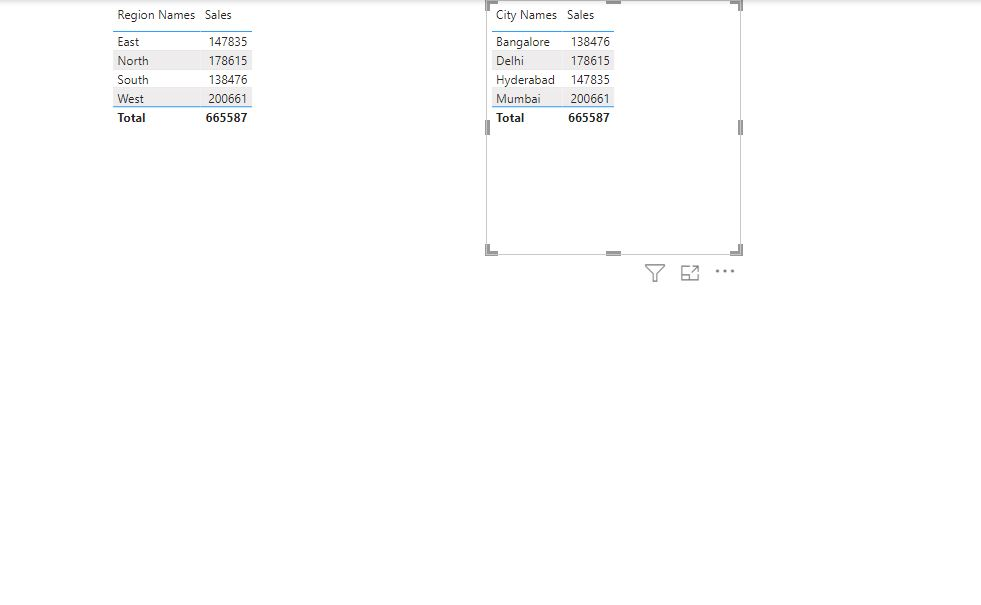

The page's visual inventory and layout, read from the dashboard file:
{"tool":"powerbi","page":{"name":"Page 1","canvas":[1280,720],"ordinal":0},"visuals":[{"type":"tableEx","fields":{"Values":["CityTable.Region Names","Sum(Sales_Table.Sales)"]},"box":[193.6,0,280.2,280.2],"z":0},{"type":"tableEx","fields":{"Values":["CityTable.City Names","Sum(Sales_Table.Sales)"]},"box":[609.8,0,280.2,280.2],"z":1}]}

Visuals, with their boxes on the page's 1280x720 design canvas (x1, y1, x2, y2). These are canvas units, not pixel positions in the 981x605 screenshot, which may show the page scaled, cropped or inside an application window:
tableEx - CityTable.Region Names x Sum(Sales_Table.Sales): bbox(194, 0, 474, 280)
tableEx - CityTable.City Names x Sum(Sales_Table.Sales): bbox(610, 0, 890, 280)
